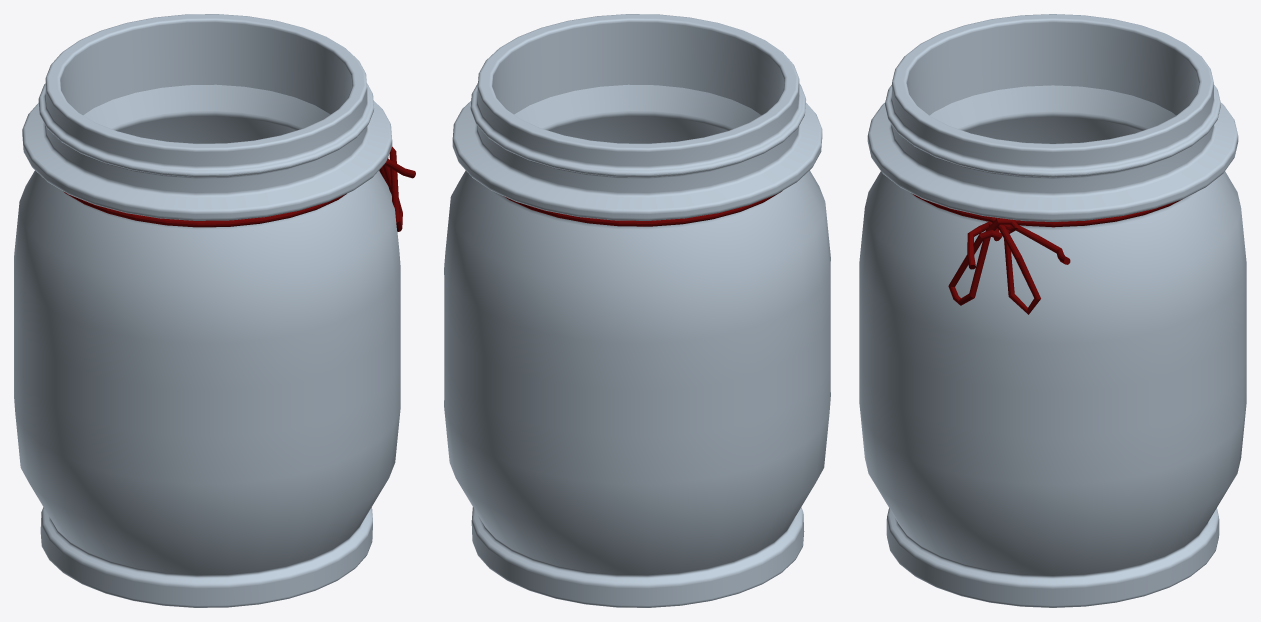
Rendered from potion.glb.
3 renders of one model, left to right at view 1: azimuth 30°, elevation 25°; view 2: azimuth 150°, elevation 25°; view 3: azimuth 270°, elevation 25°, orthographic.
Parts seen in each view (by area): view 1: jar.002, jar_Curve.003; view 2: jar.002, jar_Curve.003; view 3: jar.002, jar_Curve.003.
Part boxes in pixels (left/top/right/bottom): jar.002: left=14, top=14, right=400, bottom=607; jar_Curve.003: left=63, top=147, right=415, bottom=231; jar.002: left=444, top=14, right=830, bottom=607; jar_Curve.003: left=504, top=191, right=781, bottom=226; jar.002: left=859, top=14, right=1246, bottom=607; jar_Curve.003: left=913, top=194, right=1182, bottom=314.
Size of the model in its own units: 0.5146 by 0.6513 by 0.5003.
